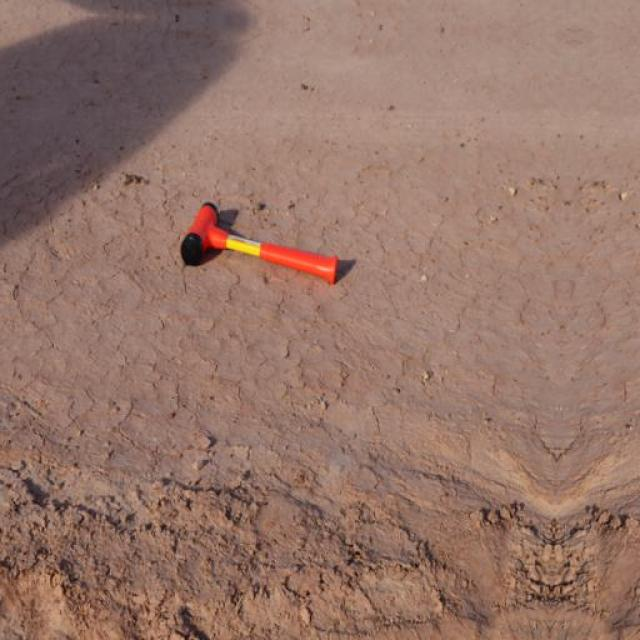mallet: (179, 200, 339, 286)
